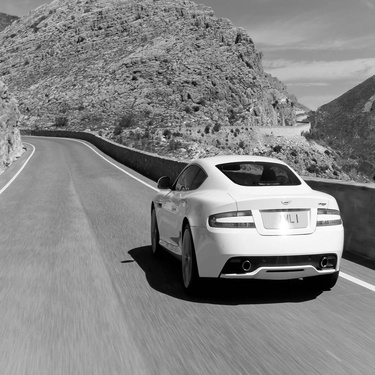car: (128, 148, 351, 309)
